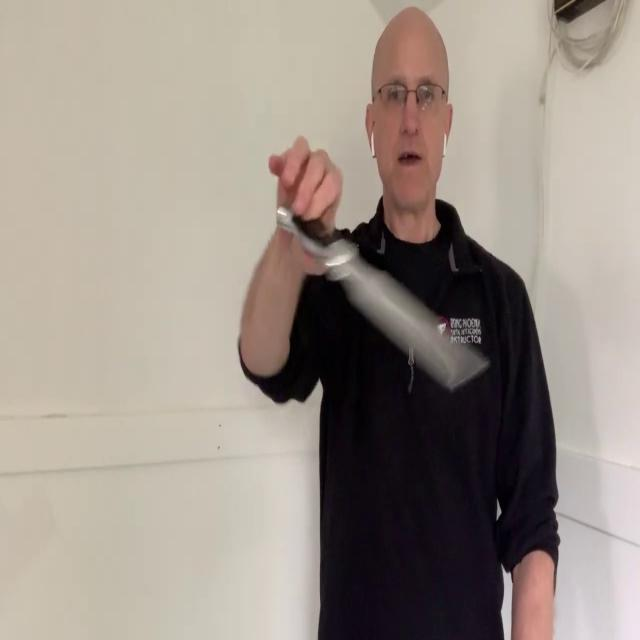Knife_Handle: (270, 134, 488, 390)
